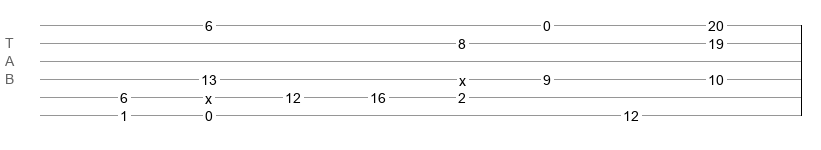0: (205, 108, 213, 118), (543, 18, 551, 28)
1: (120, 108, 128, 118)
10: (708, 72, 724, 82)
12: (285, 90, 301, 100), (623, 108, 639, 118)
13: (201, 72, 217, 82)
16: (370, 90, 386, 100)
19: (708, 36, 724, 46)
2: (458, 90, 466, 100)
20: (708, 18, 724, 28)
6: (120, 90, 128, 100), (205, 18, 213, 28)
8: (458, 36, 466, 46)
9: (543, 72, 551, 82)
x: (205, 91, 212, 99), (459, 73, 466, 81)
